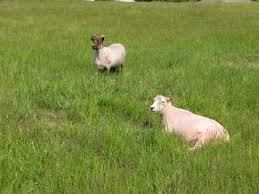sheep: (151, 93, 230, 151), (91, 35, 127, 75)
